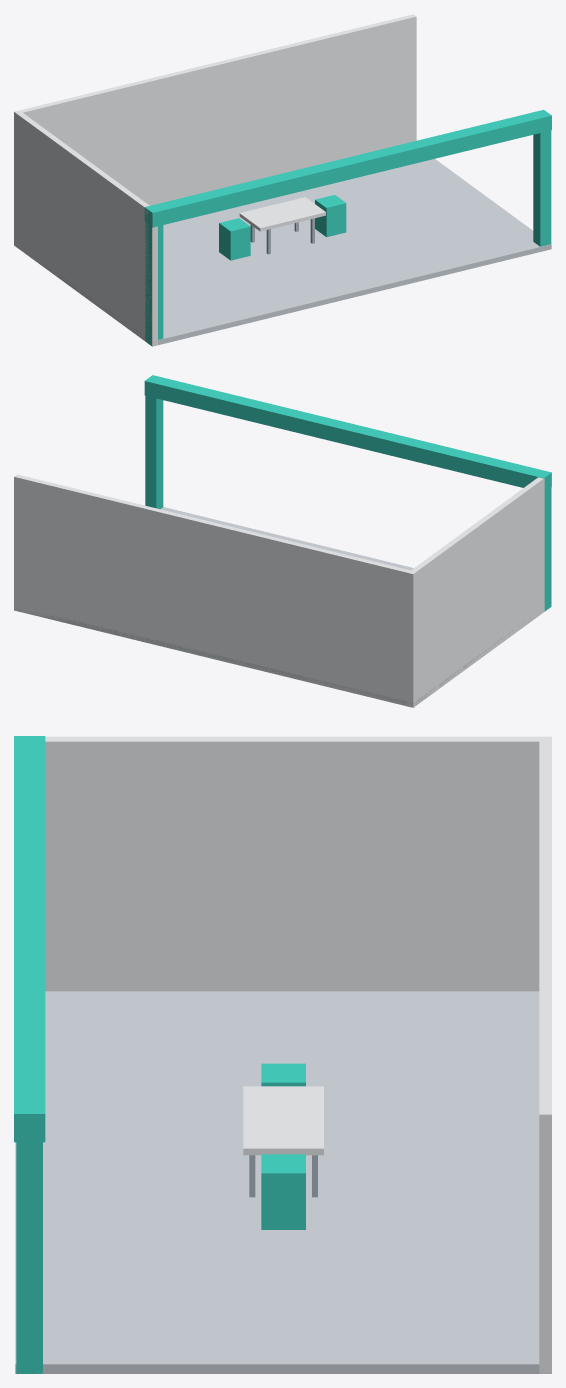
3 views of the same model, one above another, from view 1: azimuth 30°, elevation 25°; view 2: azimuth 150°, elevation 25°; view 3: azimuth 270°, elevation 25° (orthographic). The views are drawn at different scales.
Visible parts, largest first — view 1: Exhibition Booth Concept; view 2: Exhibition Booth Concept; view 3: Exhibition Booth Concept.
Boxes of the visible parts, x1,y1,x2,y2 form: Exhibition Booth Concept: (14,14,551,346); Exhibition Booth Concept: (14,375,551,707); Exhibition Booth Concept: (14,736,551,1373).
Size of the model in its own units: 10 by 3.2 by 6.02.
